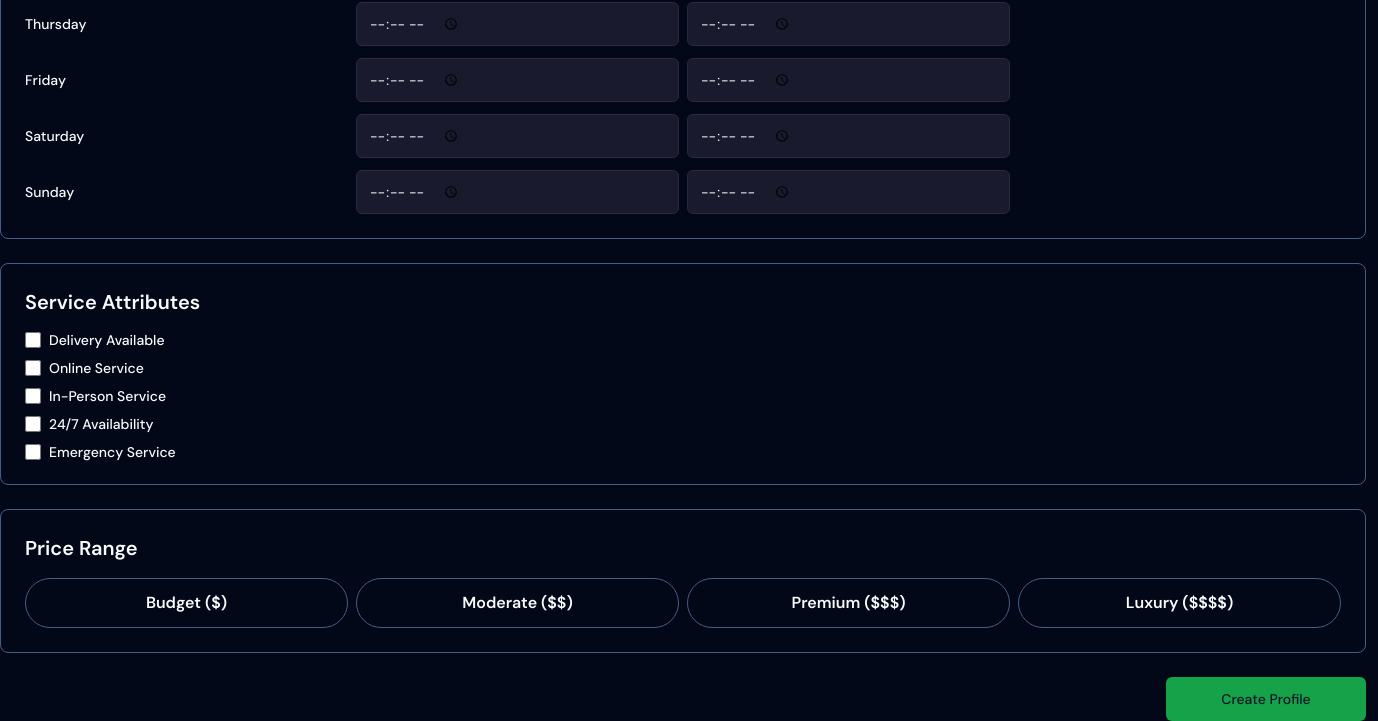
Test: BusinessProfileForm › validates required fields on submit
This screenshot has width=1378, height=721.
(page scrolled)
Click the button "Create Profile". click: [1266, 699]
box: [1166,677,1366,720]
(page scrolled)
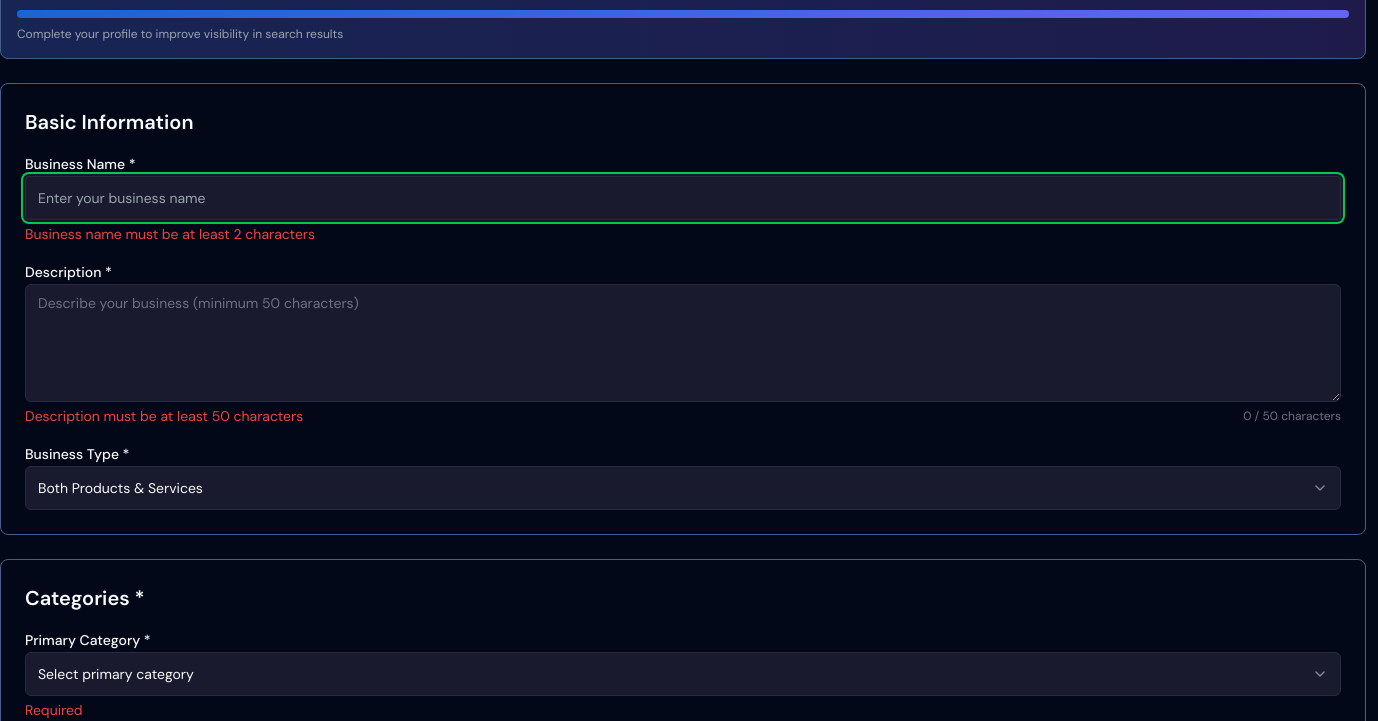
expect the text "Business name must be at least 2 characters" is shown: met, box [25,225,315,243]
